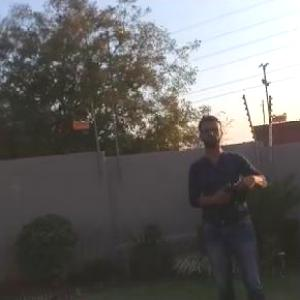follow: (183, 108, 271, 299)
